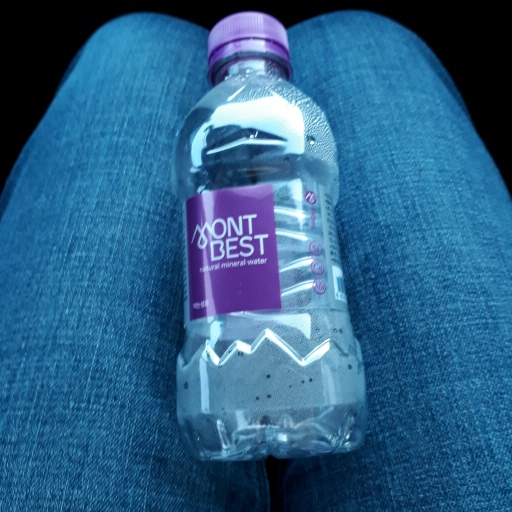Plastic_0: (170, 11, 368, 461)
